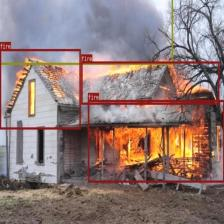fire: (87, 99, 224, 182), (0, 49, 80, 129), (81, 61, 219, 104)
smoke: (0, 0, 173, 65)
